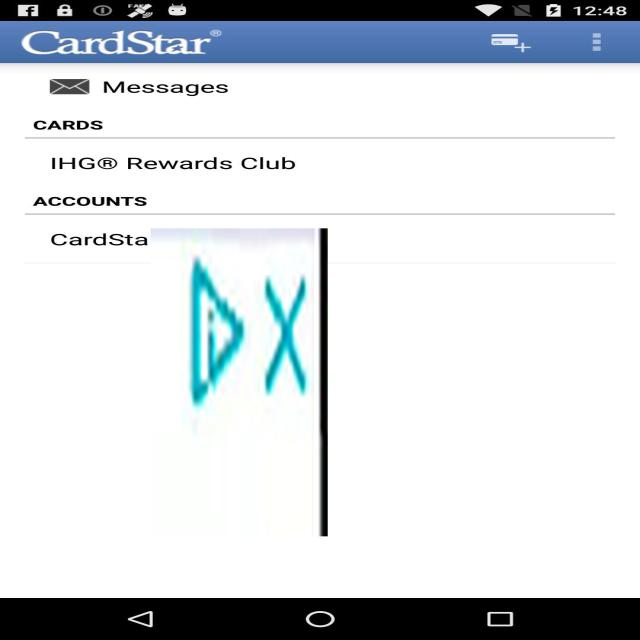sneaking: (150, 228, 328, 536)
